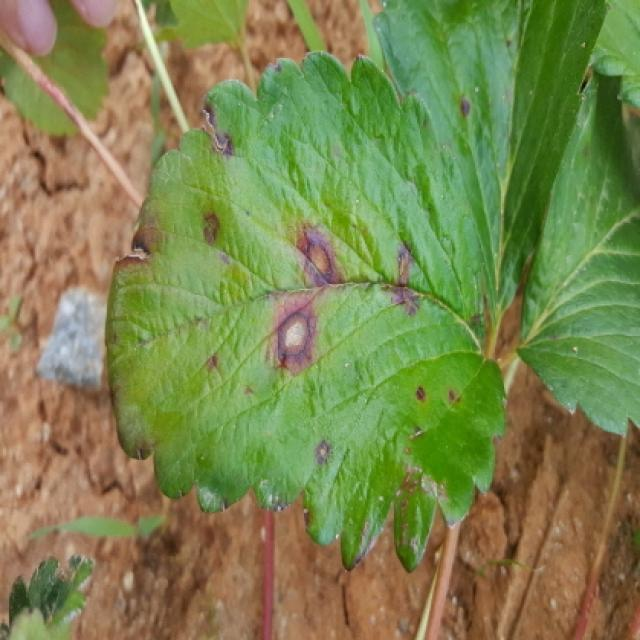Leaf Spot: (105, 50, 510, 576), (372, 0, 611, 329)
